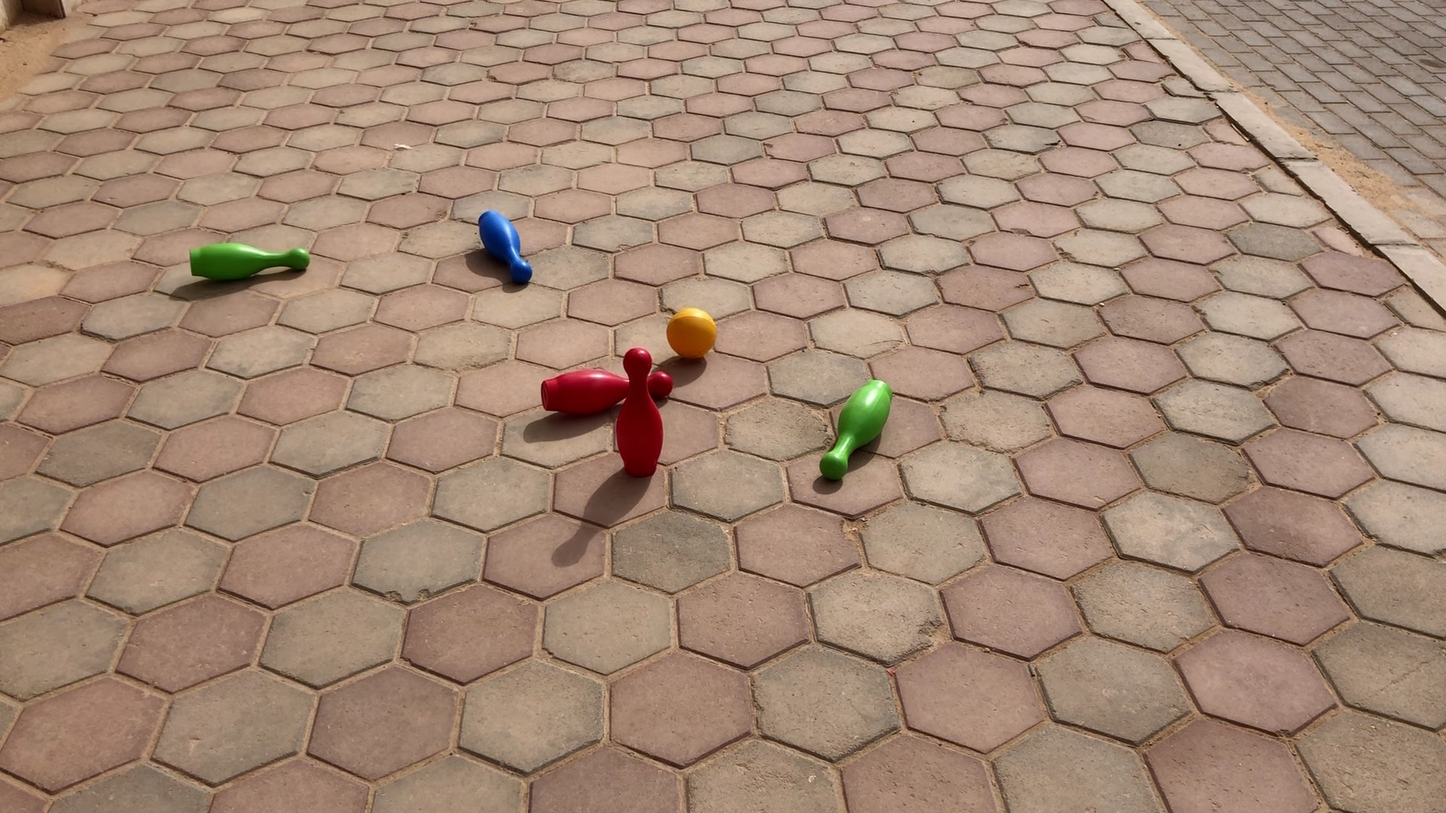bowling-pin: (821, 381, 889, 480), (615, 347, 667, 475), (543, 370, 664, 418), (190, 243, 309, 282), (478, 212, 533, 285)
